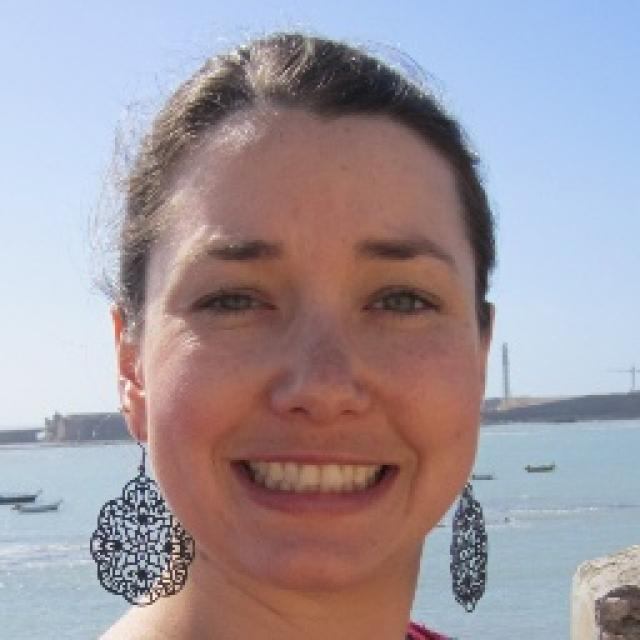earlobe: (127, 414, 158, 444)
eye: (194, 288, 277, 318), (362, 292, 438, 320)
nose: (276, 407, 370, 443)
wholeear: (110, 303, 151, 445), (474, 301, 500, 410)
